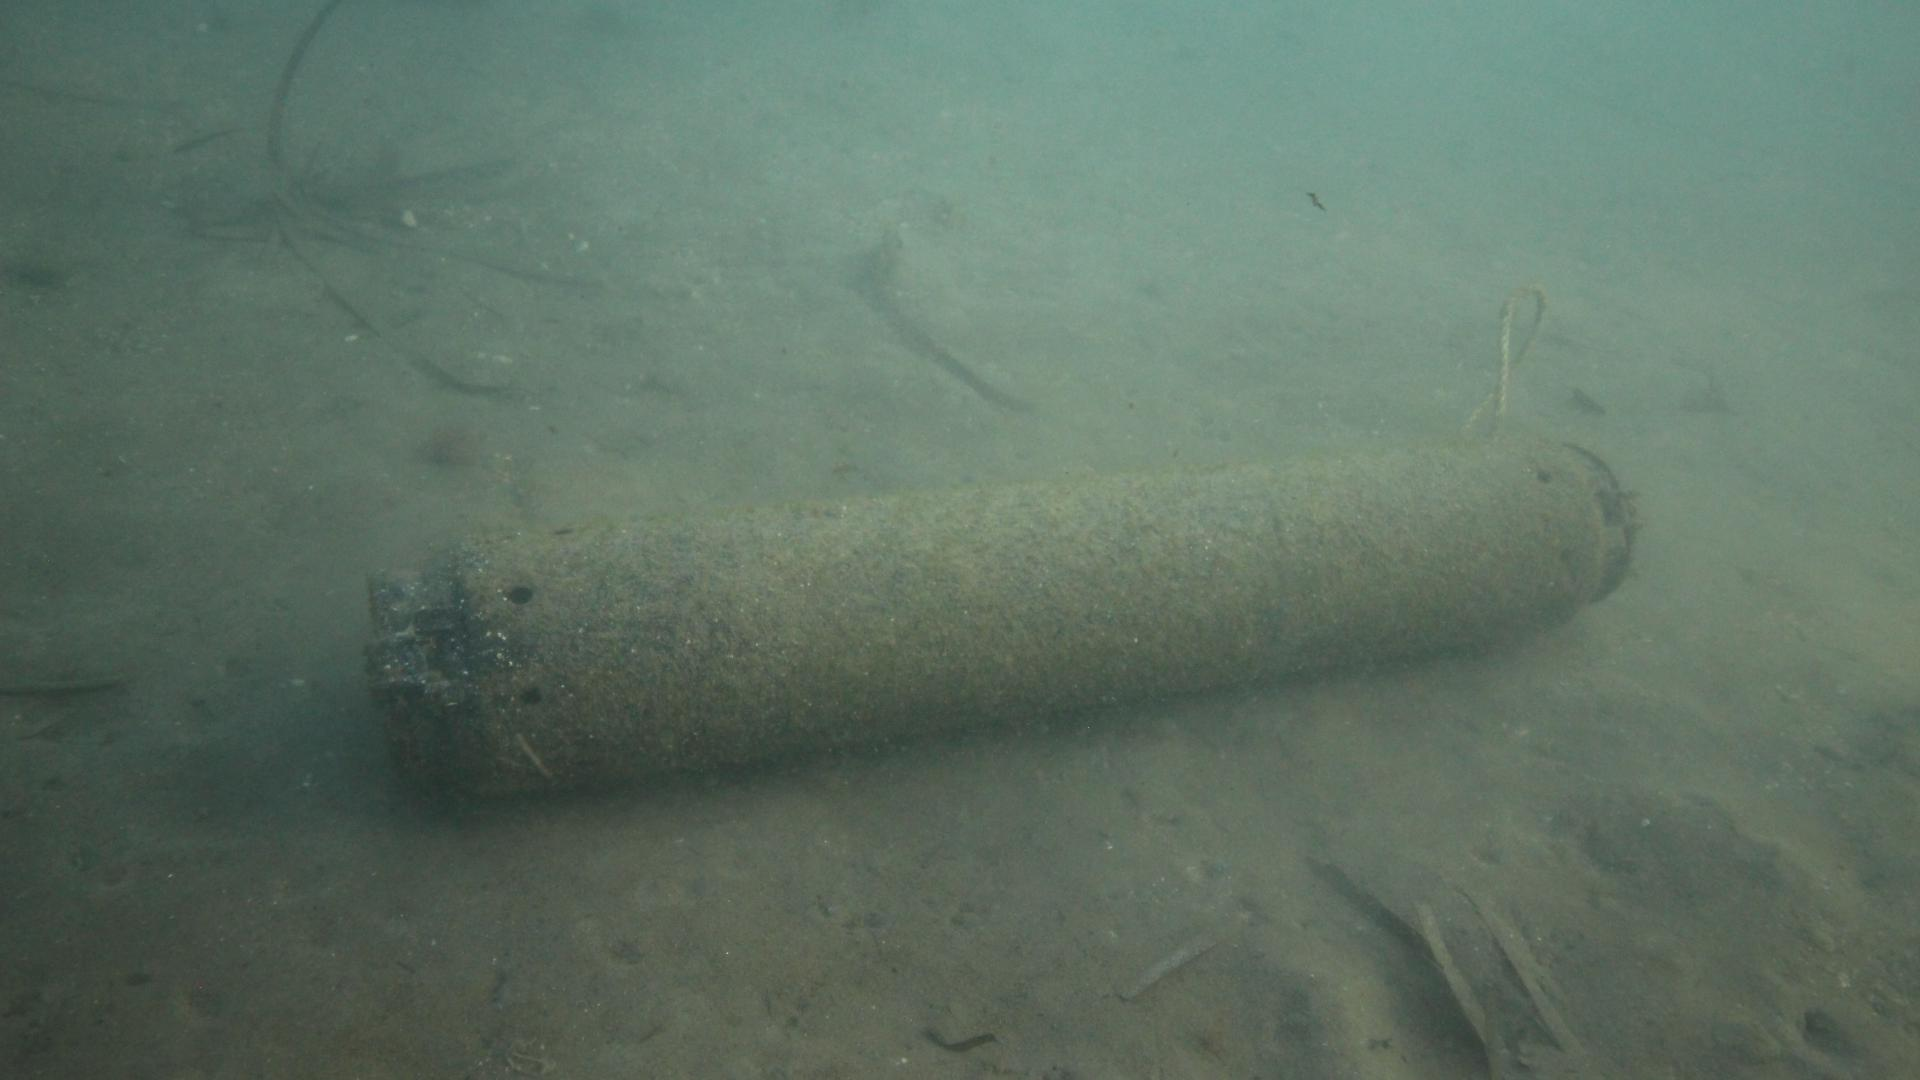eel fish trap: (364, 438, 1639, 802)
rope: (1457, 284, 1545, 440)
